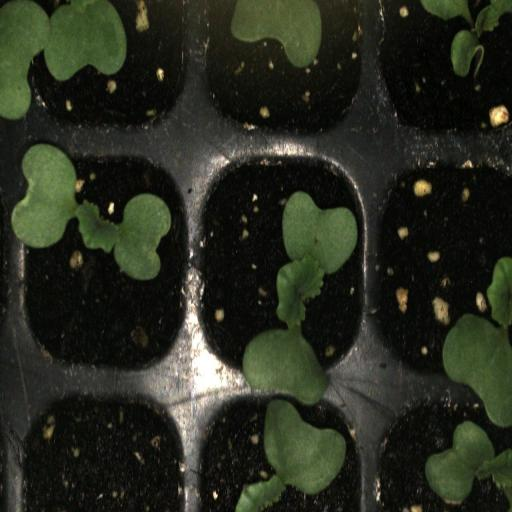seedling: (191, 143, 370, 392), (17, 142, 192, 392)
